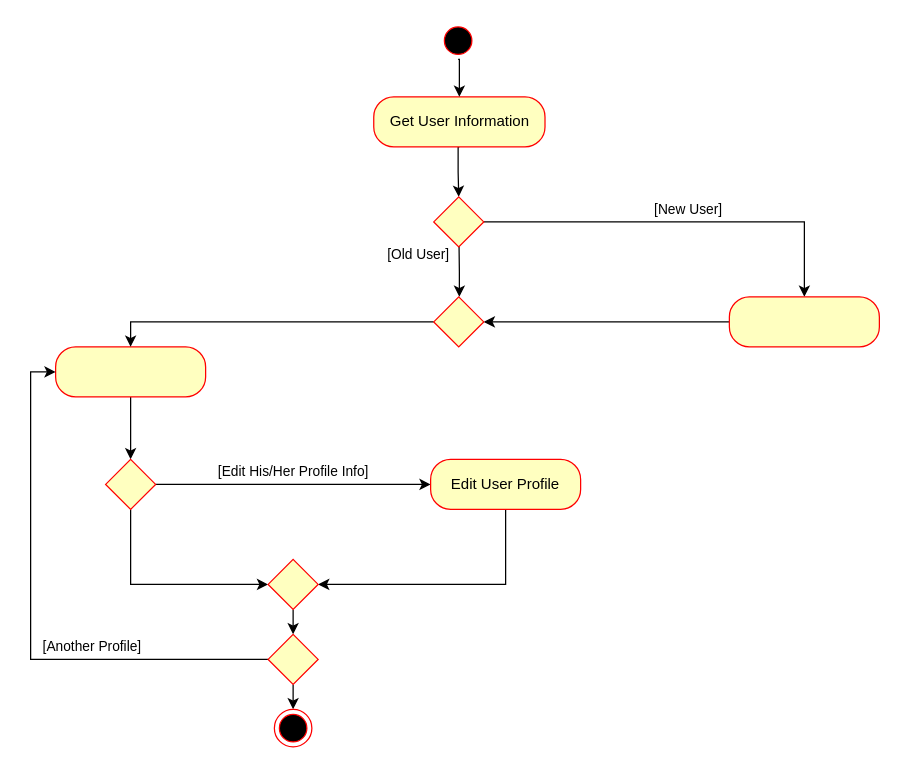
The diagram is 901 pixels wide and 769 high, and some of its shapes have lost their labels. Each missing label, with the box of its shape:
Create New User: (728, 296, 879, 347)
See Users Profile: (54, 346, 206, 397)
